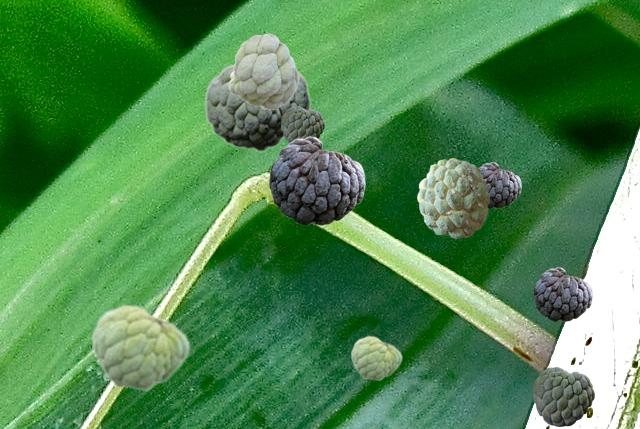atis: (204, 63, 310, 151), (90, 303, 189, 391), (269, 136, 364, 224), (417, 158, 488, 237), (228, 33, 298, 108), (533, 367, 593, 425), (533, 267, 591, 320), (350, 335, 401, 380), (478, 162, 520, 207), (281, 106, 323, 142)
